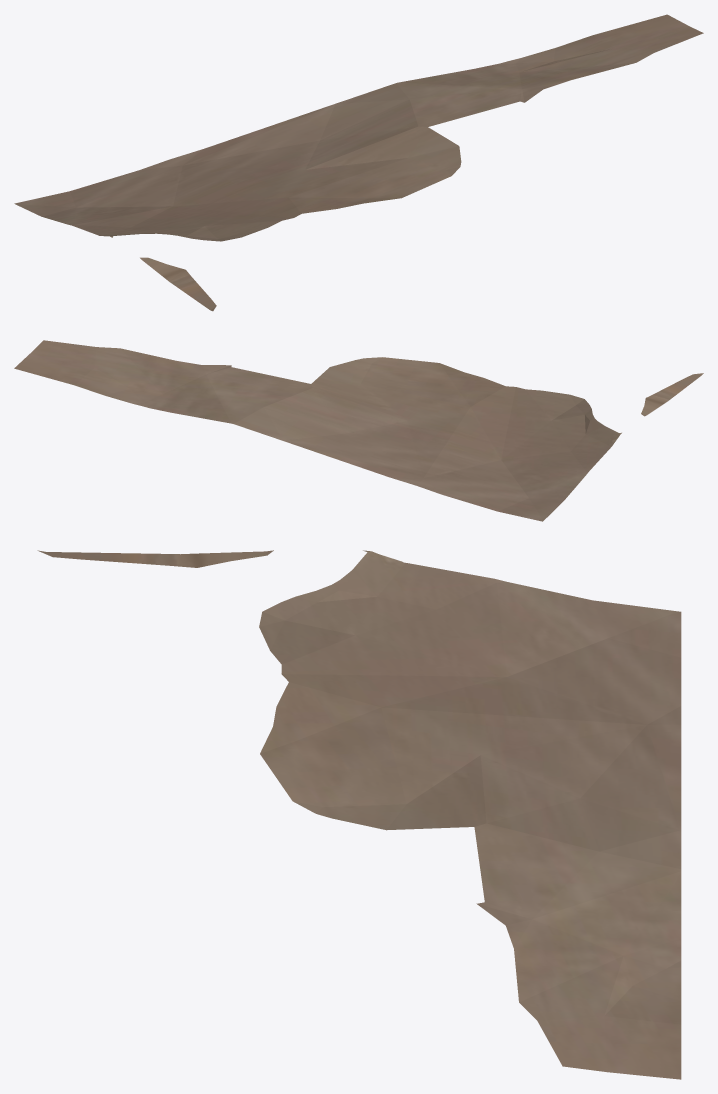
3 views of the same model, one above another, from view 1: azimuth 30°, elevation 25°; view 2: azimuth 150°, elevation 25°; view 3: azimuth 270°, elevation 25° (orthographic). The views are drawn at different scales.
Size of the model in its own units: 2.09 by 0.1193 by 1.1.
1 material, 1 textured.
